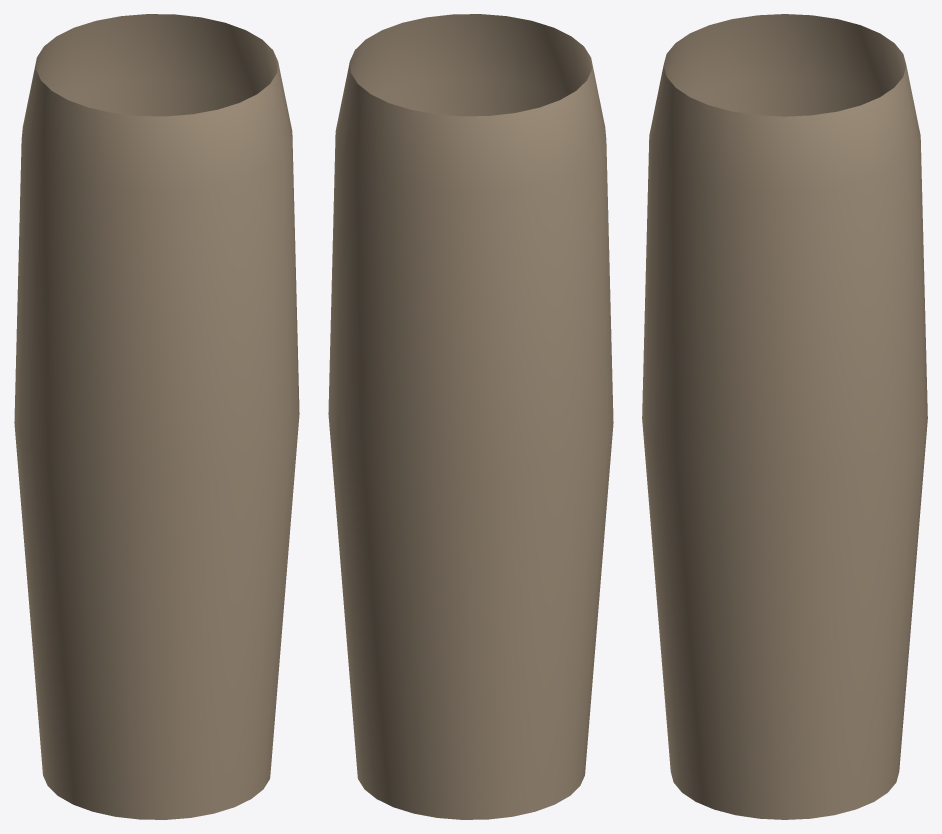
File: CAL-VAS-tall.glb
3 views of the same model, side by side, from view 1: azimuth 30°, elevation 25°; view 2: azimuth 150°, elevation 25°; view 3: azimuth 270°, elevation 25° (orthographic).
Visible parts, largest first — view 1: CAL-VAS-tall; view 2: CAL-VAS-tall; view 3: CAL-VAS-tall.
Part boxes in pixels (x1,y1,x2,y2): CAL-VAS-tall: (14,14,299,819); CAL-VAS-tall: (328,14,613,819); CAL-VAS-tall: (642,14,927,819).
Bounding box in the file's own units: 0.22 × 0.6 × 0.22.
